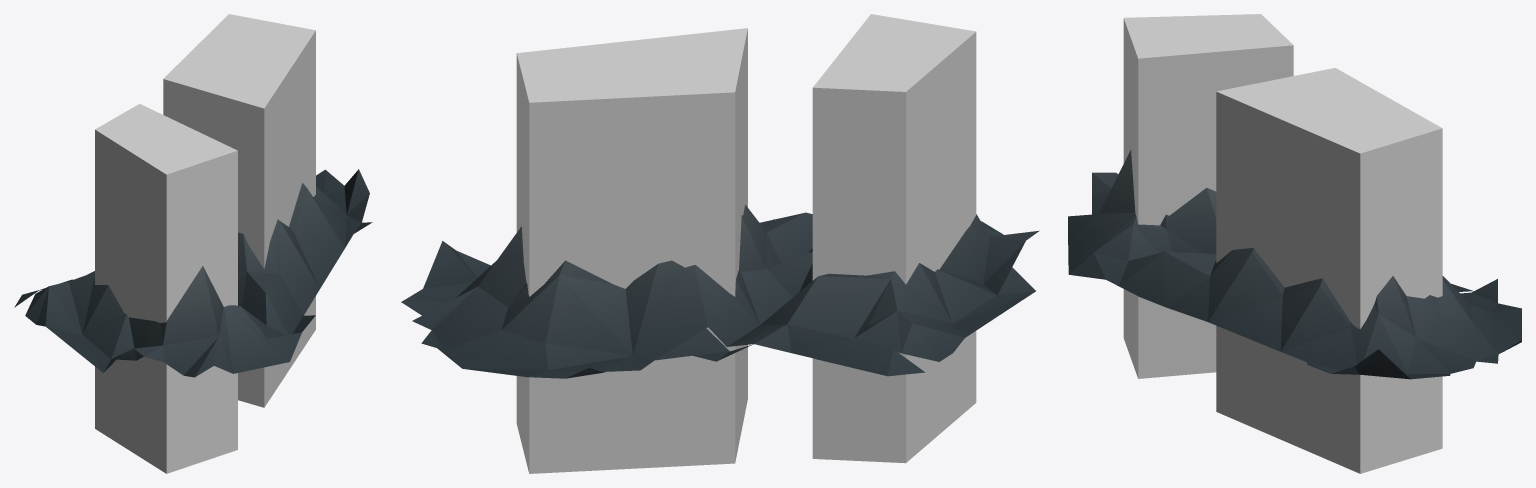
File: island_small_rock_Collection_8.fbx
3 renders of one model, left to right at view 1: azimuth 30°, elevation 25°; view 2: azimuth 150°, elevation 25°; view 3: azimuth 270°, elevation 25°, orthographic. The views are drawn at different scales.
Visible parts, largest first — view 1: islandRock_8_col, islandRock_8; view 2: islandRock_8_col, islandRock_8; view 3: islandRock_8_col, islandRock_8.
Part boxes in pixels (x1,y1,x2,y2): islandRock_8_col: (95, 14, 315, 473); islandRock_8: (14, 169, 372, 377); islandRock_8_col: (516, 14, 976, 473); islandRock_8: (401, 205, 1039, 378); islandRock_8_col: (1123, 14, 1442, 473); islandRock_8: (1068, 149, 1521, 379).
Size of the model in its own units: 5541 by 4307 by 5530.
